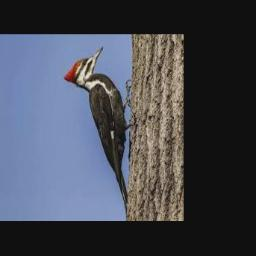Woodpecker: (63, 46, 132, 215)
